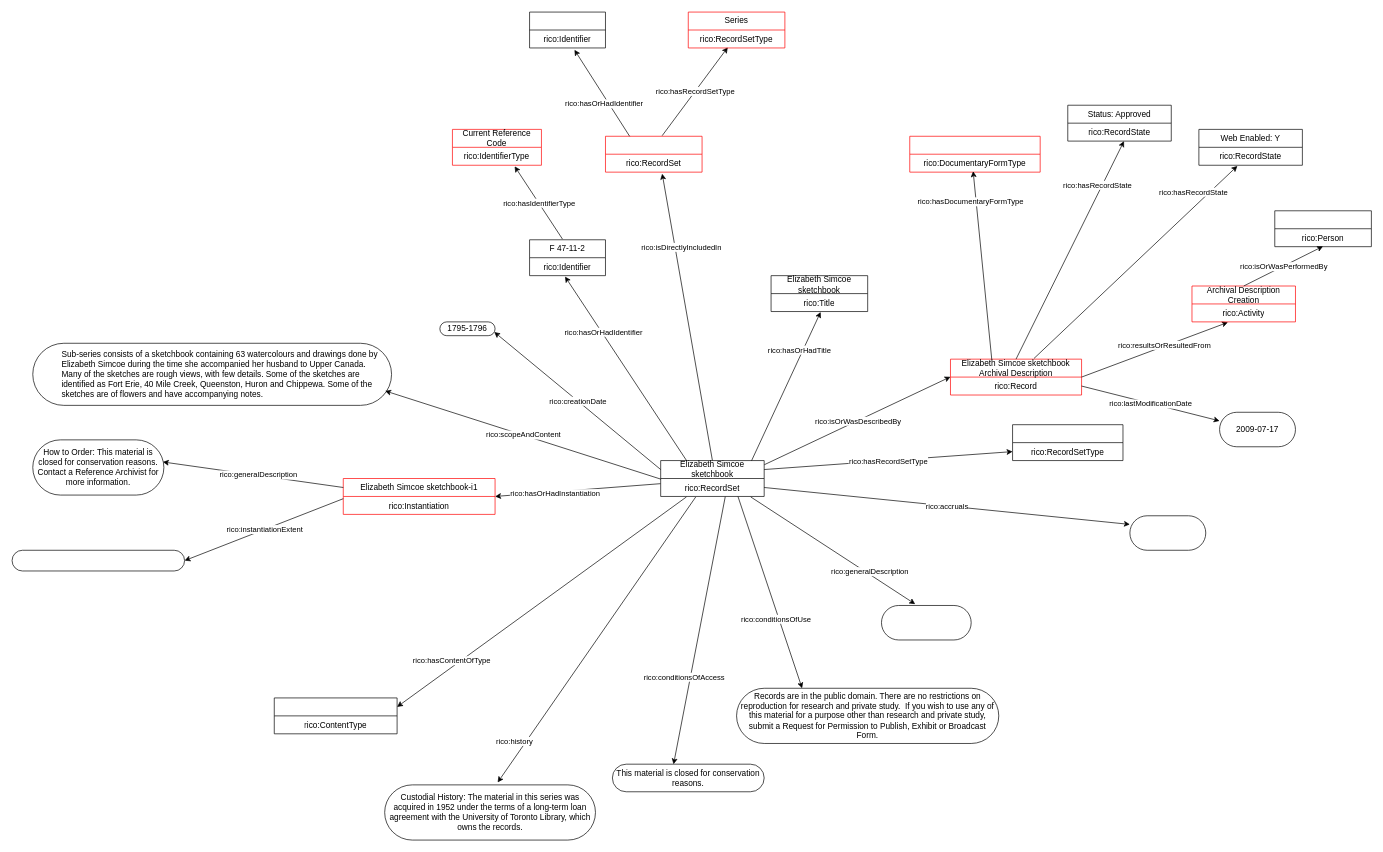
Image size: 1383x852. Some labels were removed from this diagram. The box of each missing label's shape, as (x1, y1, x2, y2) in pixels:
1 sketchbook (63 watercolours and drawings): (11, 550, 185, 571)
Archival Description: (909, 136, 1040, 172)
Elizabeth Simcoe sketches: (605, 136, 702, 172)
F 47-11: (529, 11, 605, 48)
Finding Aid Note: An online list is available for this sub-series.: (881, 605, 971, 640)
Graphic materials: (274, 697, 397, 734)
No further accruals are expected.: (1129, 515, 1206, 550)
Sub-Series: (1012, 424, 1123, 461)
Walz: (1274, 210, 1371, 247)
